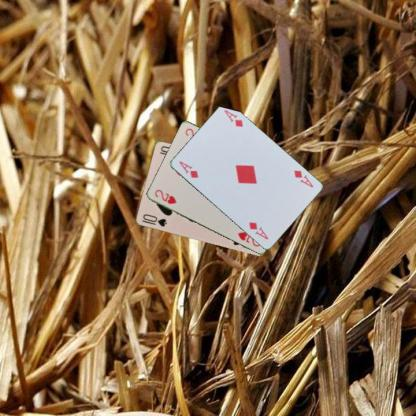10s: (139, 212, 168, 228)
2h: (152, 187, 177, 205)
Ad: (176, 158, 200, 179), (292, 167, 314, 189)
